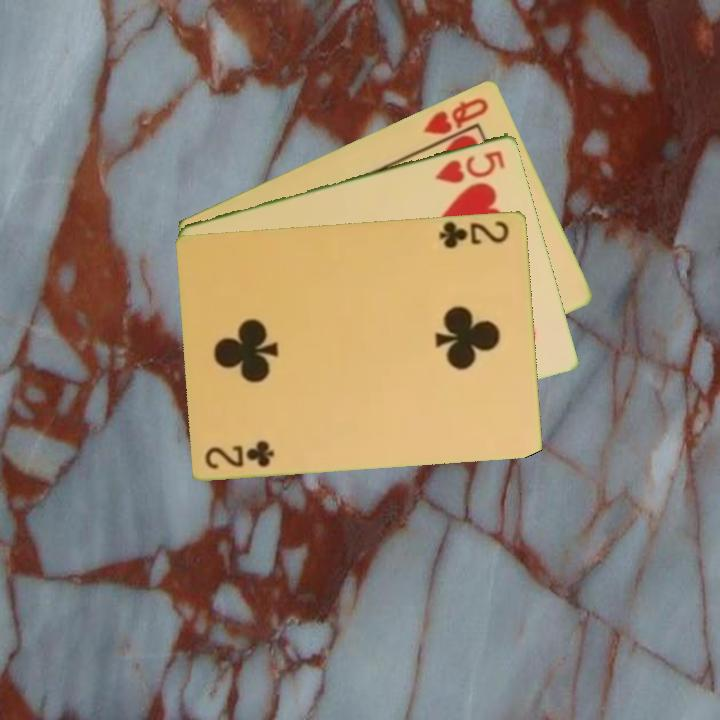2c: (436, 216, 513, 251), (202, 438, 278, 472)
5h: (432, 146, 508, 186)
Qh: (419, 94, 492, 137)
